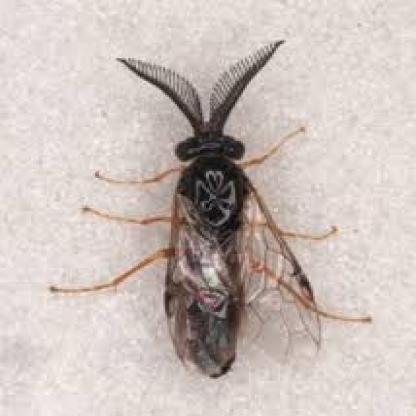sawfly: (52, 31, 379, 377)
